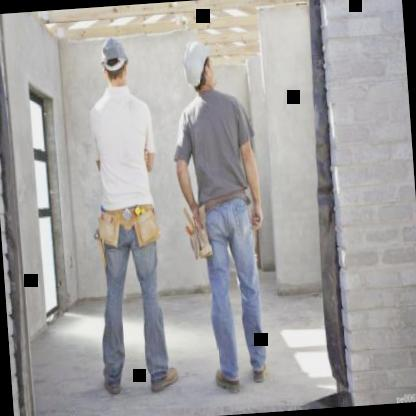helmet: (179, 38, 219, 100), (97, 34, 129, 83)
